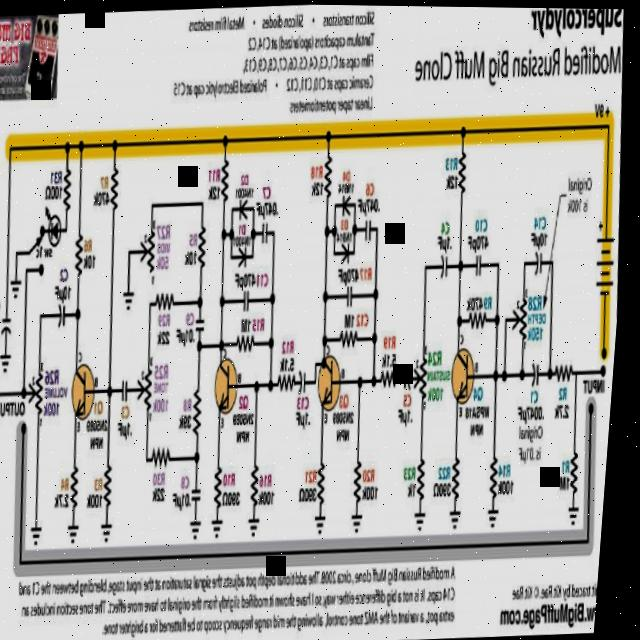capacitor: (473, 244, 491, 285), (299, 364, 316, 407), (406, 353, 421, 401), (362, 213, 380, 252), (1, 310, 19, 348), (439, 249, 457, 284), (534, 245, 552, 279), (192, 482, 213, 511), (243, 279, 259, 317), (58, 294, 74, 332), (531, 357, 549, 390), (125, 373, 139, 410), (347, 280, 360, 317), (263, 213, 275, 250), (197, 310, 214, 336)
diode: (46, 201, 67, 248), (341, 229, 359, 267), (237, 191, 257, 224), (236, 238, 256, 271), (340, 187, 357, 220)
ground: (317, 500, 342, 538), (353, 506, 377, 539), (252, 507, 272, 546), (194, 509, 213, 550), (1, 344, 21, 382), (35, 519, 57, 552), (418, 502, 440, 534), (107, 512, 125, 549), (122, 281, 142, 314), (456, 498, 476, 531), (217, 510, 235, 546), (13, 266, 30, 304), (492, 501, 510, 534), (74, 518, 91, 549), (573, 501, 589, 530)
node: (109, 378, 123, 410), (110, 133, 124, 159), (495, 303, 508, 329), (223, 220, 234, 250), (271, 328, 284, 353), (77, 301, 89, 326), (361, 367, 371, 396), (326, 328, 337, 354), (200, 284, 211, 309), (376, 282, 389, 303), (459, 255, 471, 277), (65, 135, 76, 159), (325, 283, 335, 309), (497, 362, 507, 388), (223, 125, 233, 151), (325, 219, 335, 244), (251, 222, 262, 244), (222, 291, 233, 313), (375, 323, 385, 347), (376, 363, 385, 389), (460, 119, 470, 142), (221, 333, 233, 352), (231, 221, 240, 246), (80, 132, 89, 157), (272, 286, 283, 306), (258, 375, 268, 397), (550, 362, 562, 380), (460, 312, 470, 332), (335, 218, 345, 236), (523, 365, 533, 383), (26, 381, 34, 403), (201, 446, 210, 465), (507, 361, 514, 385), (200, 336, 208, 355), (273, 376, 281, 395), (328, 126, 336, 140)
resistor: (512, 281, 540, 356), (140, 344, 165, 425), (30, 361, 55, 430), (418, 338, 442, 409), (193, 368, 216, 441), (139, 219, 164, 284), (73, 217, 95, 286), (320, 143, 340, 214), (216, 149, 237, 216), (72, 449, 92, 518), (108, 157, 129, 222), (418, 445, 439, 508), (571, 440, 594, 497), (382, 351, 409, 399), (252, 452, 273, 513), (196, 213, 215, 280), (154, 429, 183, 472), (108, 448, 126, 516), (455, 447, 477, 502), (236, 321, 266, 361), (454, 141, 473, 201), (492, 445, 511, 504), (356, 447, 374, 508), (62, 156, 78, 221), (341, 315, 368, 353), (321, 449, 339, 506), (280, 361, 305, 402), (217, 456, 234, 512), (558, 354, 582, 393), (469, 296, 497, 328), (157, 285, 185, 316)
source: (590, 215, 625, 314)
transistor: (452, 336, 488, 421), (316, 349, 355, 426), (71, 356, 109, 427), (215, 351, 249, 427)
